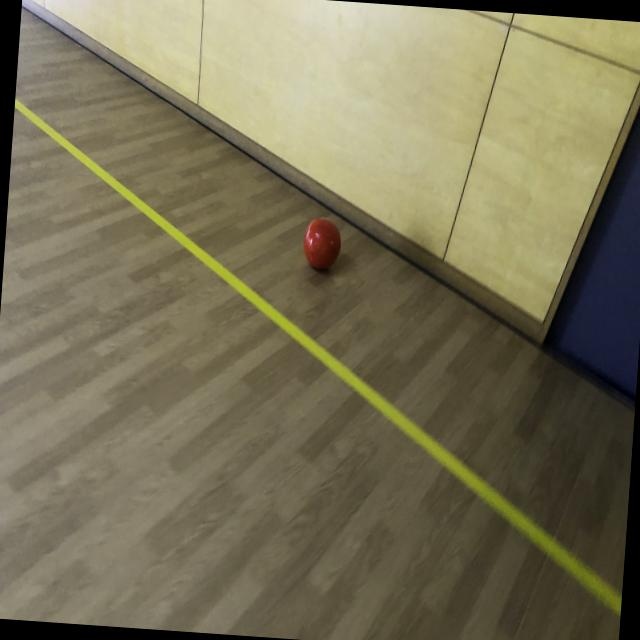red_ball: (302, 216, 342, 270)
